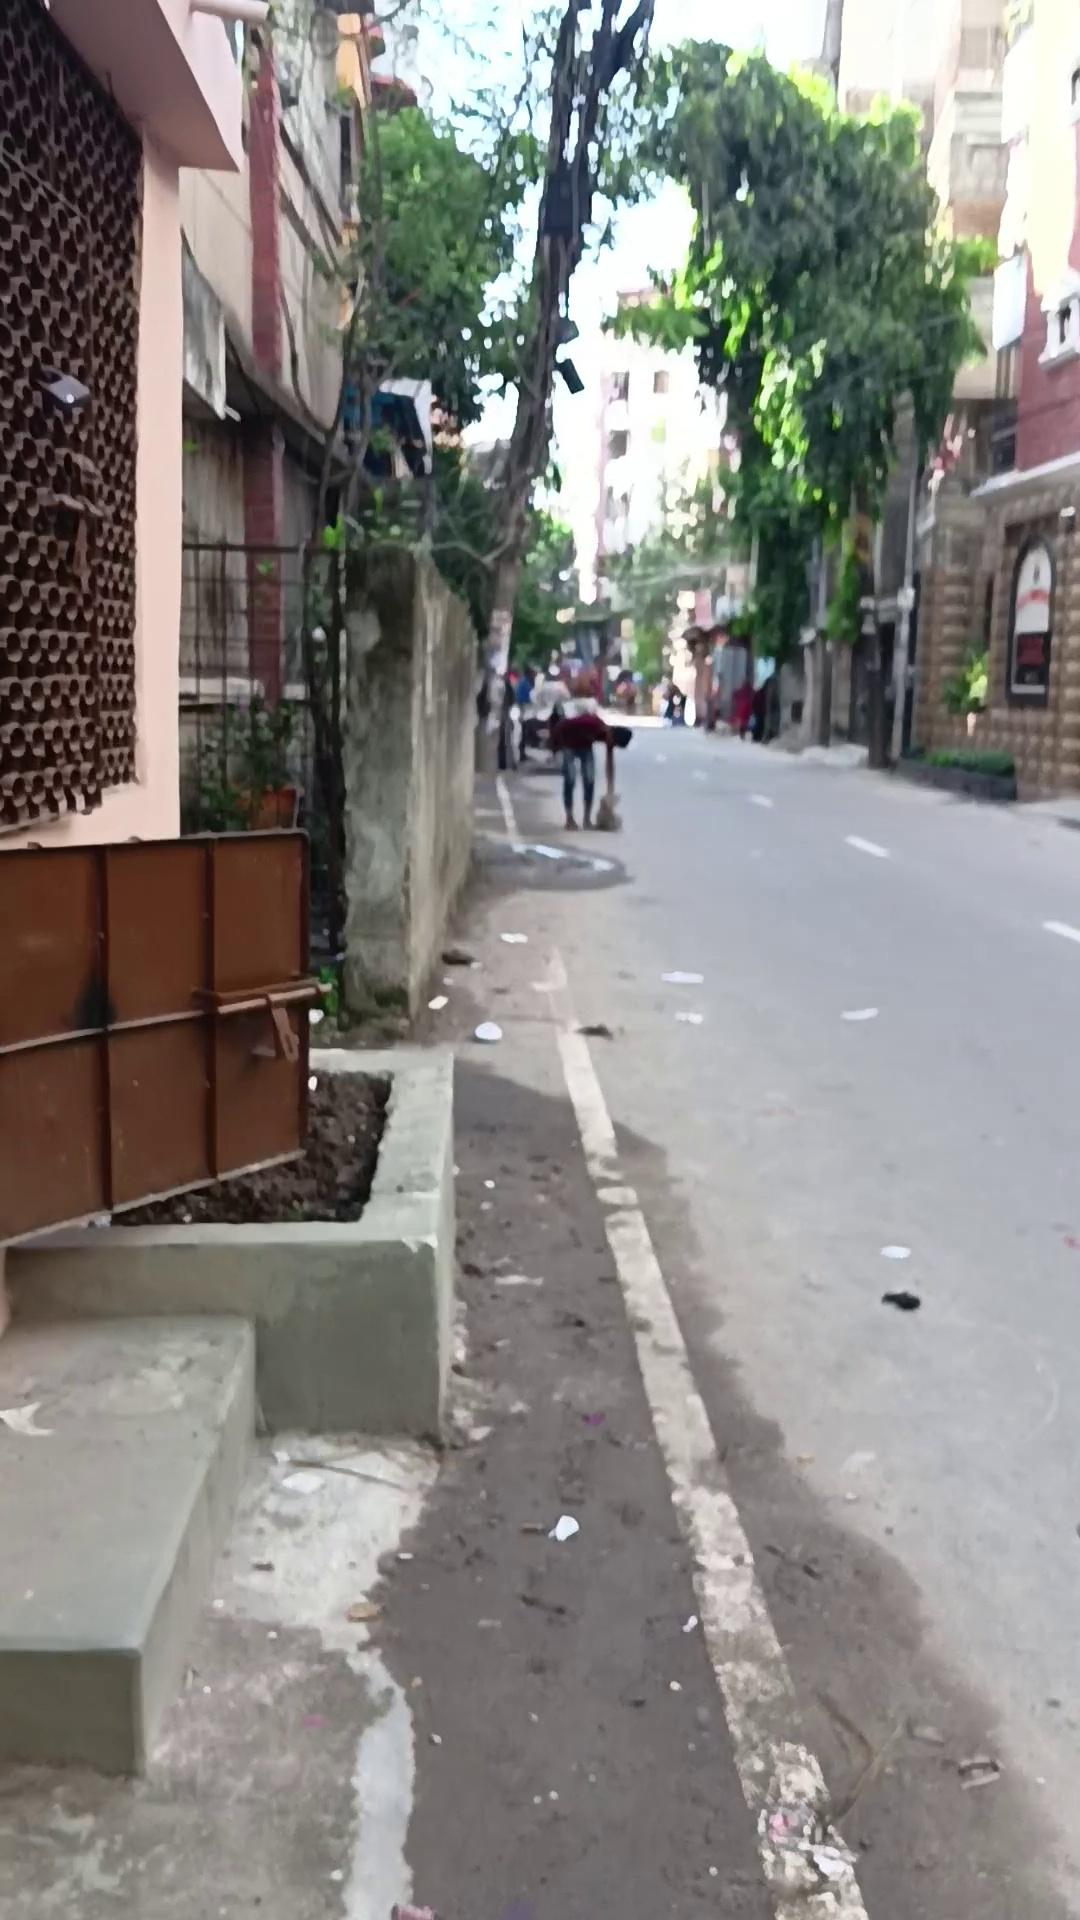Broken-road: (0, 945, 464, 1920)
Fallen-tree: (940, 641, 989, 738)
Light-pole: (589, 41, 978, 748)
Obstacle: (1, 0, 324, 1247), (331, 533, 479, 1040)
